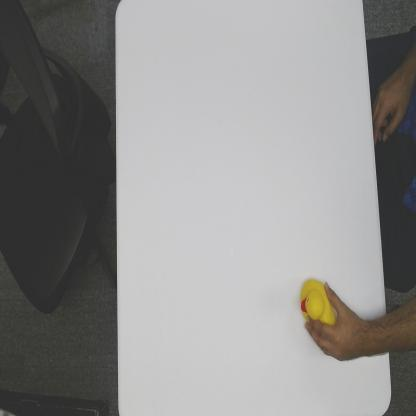Arm: (362, 316, 392, 358)
Duck: (299, 276, 337, 326)
Hand: (304, 282, 364, 362)
